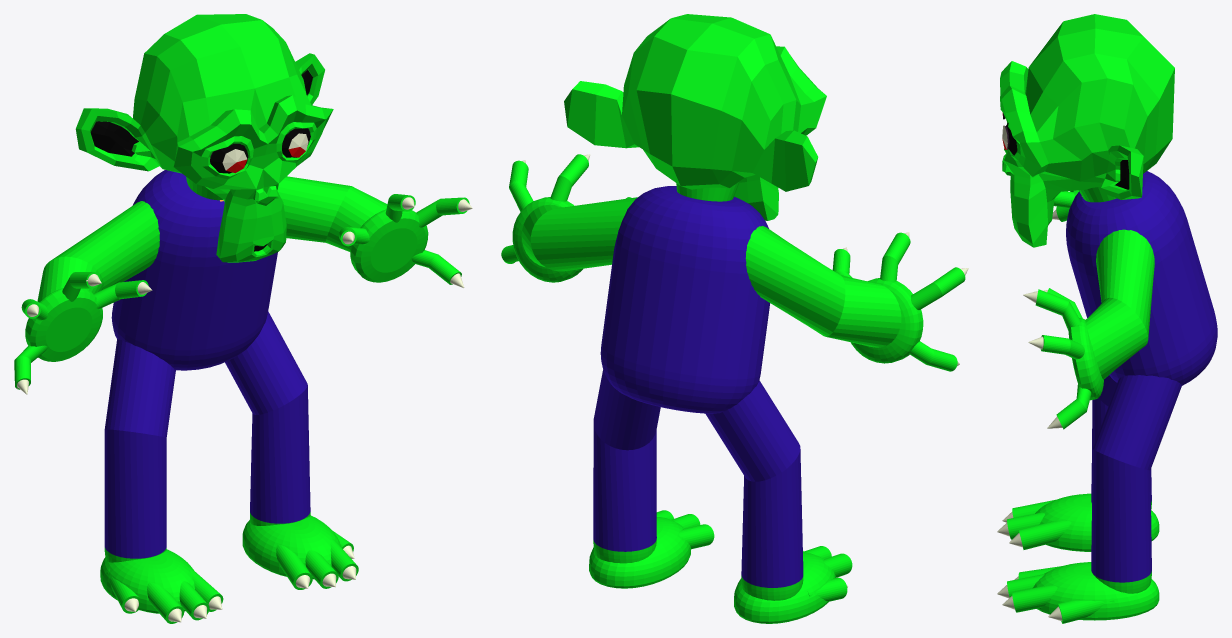
The model's file is MonoEnemigo (1).fbx.
3 views of the same model, side by side, from view 1: azimuth 30°, elevation 25°; view 2: azimuth 150°, elevation 25°; view 3: azimuth 270°, elevation 25° (orthographic). The views are drawn at different scales.
Visible parts, largest first — view 1: Cylinder; view 2: Cylinder; view 3: Cylinder.
Boxes of the visible parts, x1,y1,x2,y2 form: Cylinder: [14, 14, 472, 623]; Cylinder: [501, 14, 968, 623]; Cylinder: [997, 14, 1217, 623].
Size of the model in its own units: 494 by 583 by 214.
Materials: 1 (1 with a texture image).
